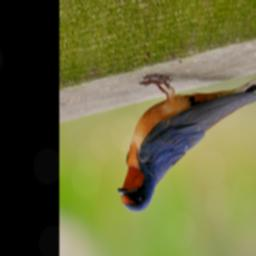Swallow: (114, 65, 256, 218)
